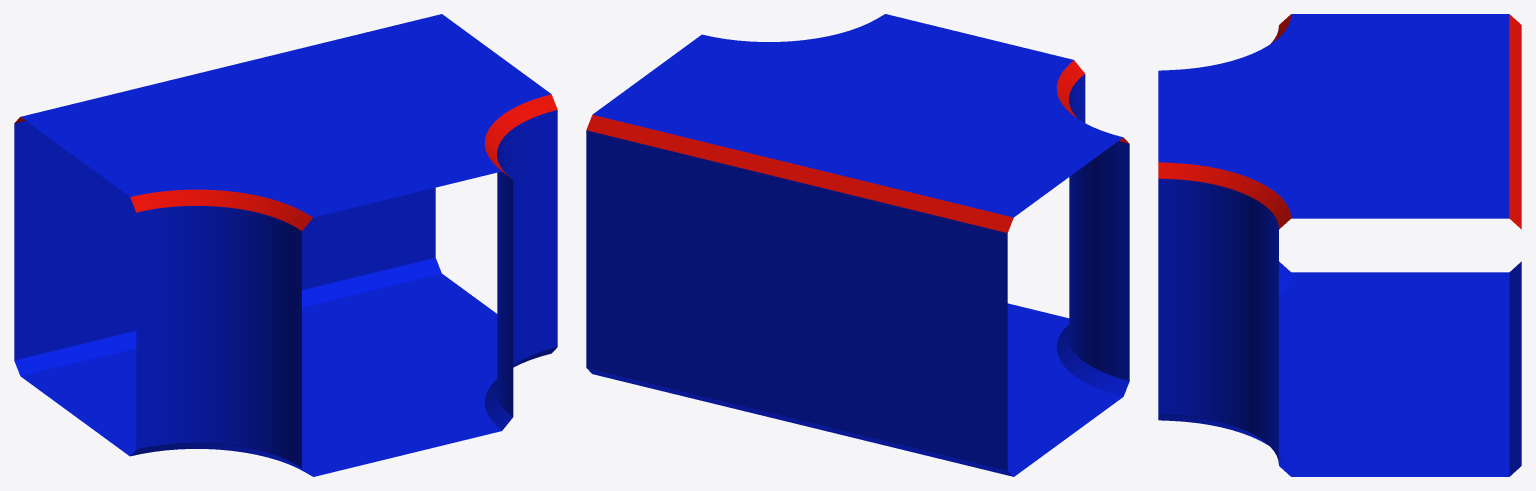
The picture shows the model from 3 angles, left to right: view 1: azimuth 30°, elevation 25°; view 2: azimuth 150°, elevation 25°; view 3: azimuth 270°, elevation 25°; orthographic projection.
Parts seen in each view (by area): view 1: T; view 2: T; view 3: T.
Part boxes in pixels (box(x1,y1,x2,y2)): T: box(14, 14, 557, 476); T: box(586, 14, 1129, 476); T: box(1158, 14, 1521, 476).
Size of the model in its own units: 400 by 235 by 300.
